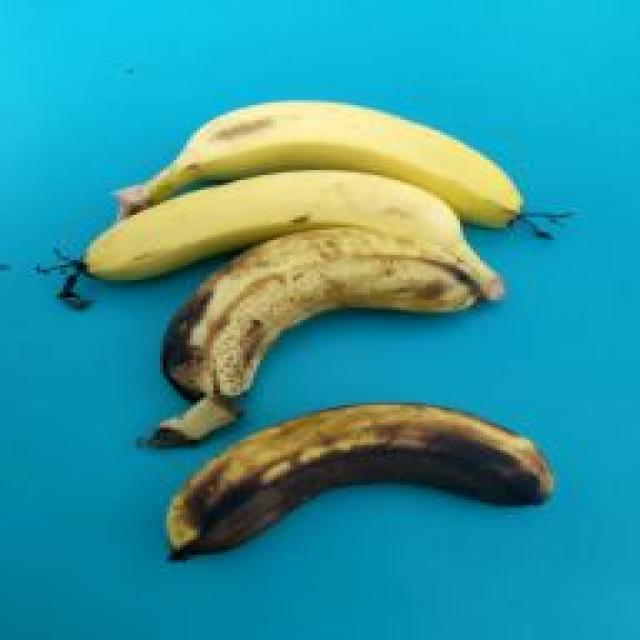Wet: (137, 218, 493, 452), (157, 398, 553, 562)
